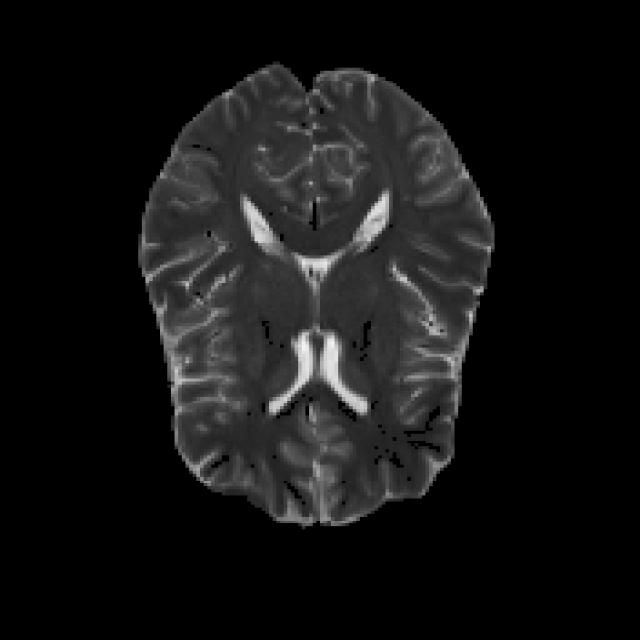parkinson: (134, 59, 494, 526)
